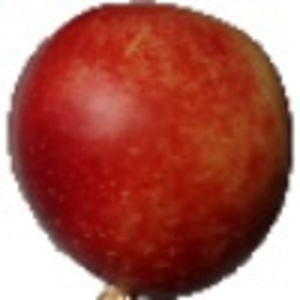nectarina: (6, 1, 296, 300)
